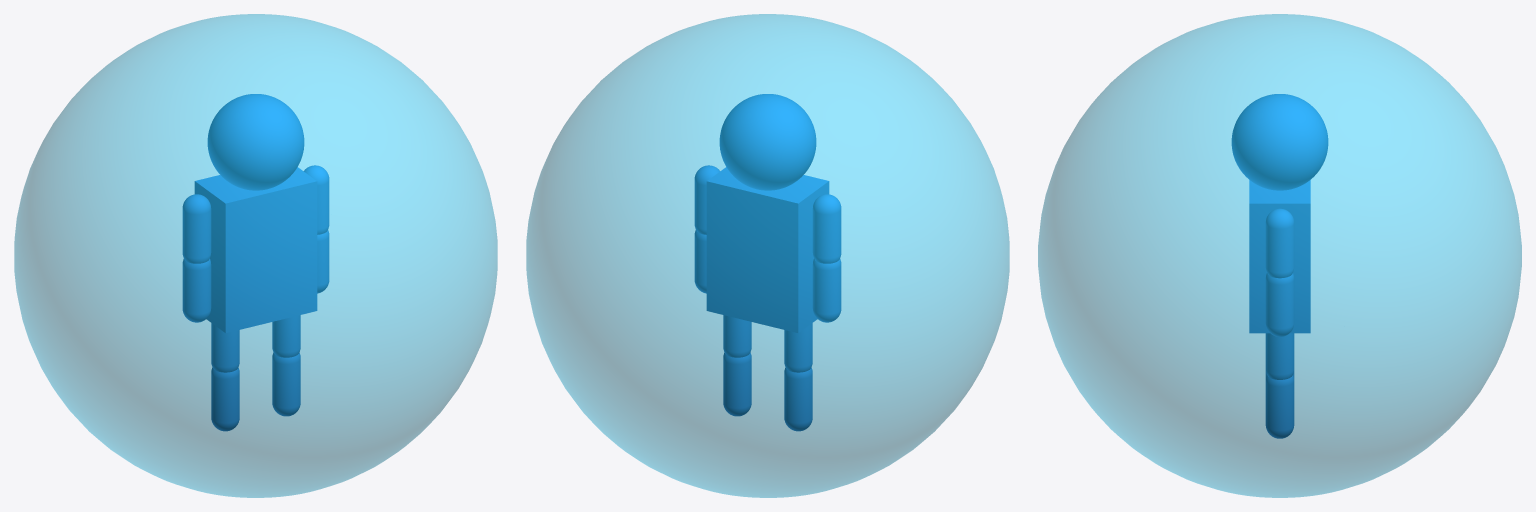
The model's file is john placeholder.gltf.
The picture shows the model from 3 angles, left to right: view 1: azimuth 30°, elevation 25°; view 2: azimuth 150°, elevation 25°; view 3: azimuth 270°, elevation 25°; orthographic projection.
Parts seen in each view (by area): view 1: ShieldMesh, TorsoMesh, HeadMesh, LeftUpperArm, LeftForearm, LeftLowerLeg, RightLowerLeg, LeftUpperLeg, RightUpperLeg, RightUpperArm, RightForearm; view 2: ShieldMesh, TorsoMesh, HeadMesh, LeftUpperArm, LeftForearm, LeftLowerLeg, RightLowerLeg, LeftUpperLeg, RightUpperLeg, RightUpperArm, RightForearm; view 3: ShieldMesh, HeadMesh, TorsoMesh, RightUpperArm, RightLowerLeg, RightForearm, RightUpperLeg.
Boxes of the visible parts, x1,y1,x2,y2 form: ShieldMesh: (14,14,497,497); TorsoMesh: (194,167,317,332); HeadMesh: (207,94,304,190); LeftUpperArm: (182,194,211,263); LeftForearm: (182,259,211,322); LeftLowerLeg: (211,367,239,431); RightLowerLeg: (272,353,300,416); LeftUpperLeg: (211,323,239,372); RightUpperLeg: (272,315,300,357); RightUpperArm: (304,165,329,234); RightForearm: (317,230,329,293); ShieldMesh: (526,14,1009,497); TorsoMesh: (706,167,829,332); HeadMesh: (719,94,816,190); LeftUpperArm: (812,194,841,263); LeftForearm: (812,259,841,322); LeftLowerLeg: (784,367,812,431); RightLowerLeg: (723,353,751,416); LeftUpperLeg: (784,323,812,372); RightUpperLeg: (723,315,751,357); RightUpperArm: (694,165,719,234); RightForearm: (694,230,706,293); ShieldMesh: (1038,14,1521,497); HeadMesh: (1231,94,1328,190); TorsoMesh: (1249,180,1310,333); RightUpperArm: (1265,208,1294,278); RightLowerLeg: (1265,375,1294,438); RightForearm: (1265,273,1294,336); RightUpperLeg: (1265,333,1294,379).
Bounding box in the file's own units: 2.2 × 2.2 × 2.2.
